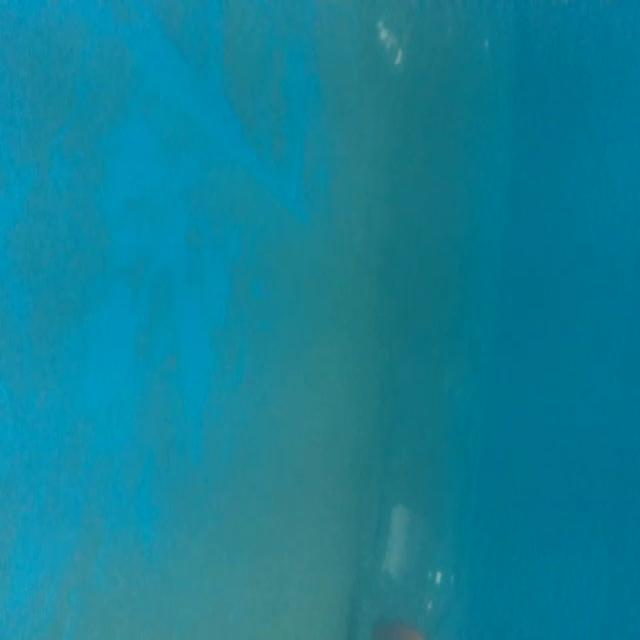plastic bottle: (357, 372, 494, 640)
